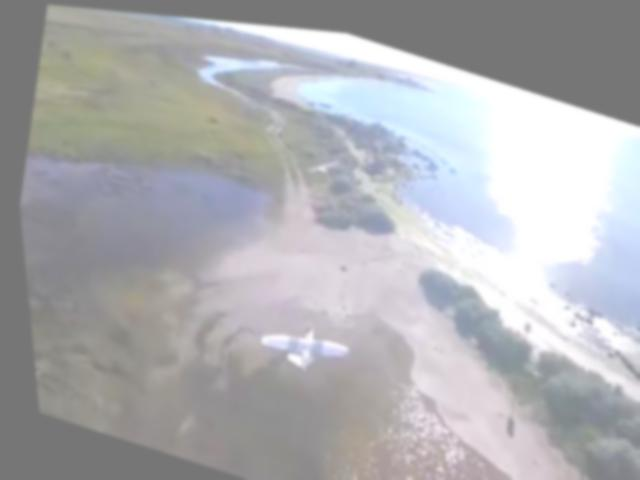uav: (244, 304, 347, 379)
